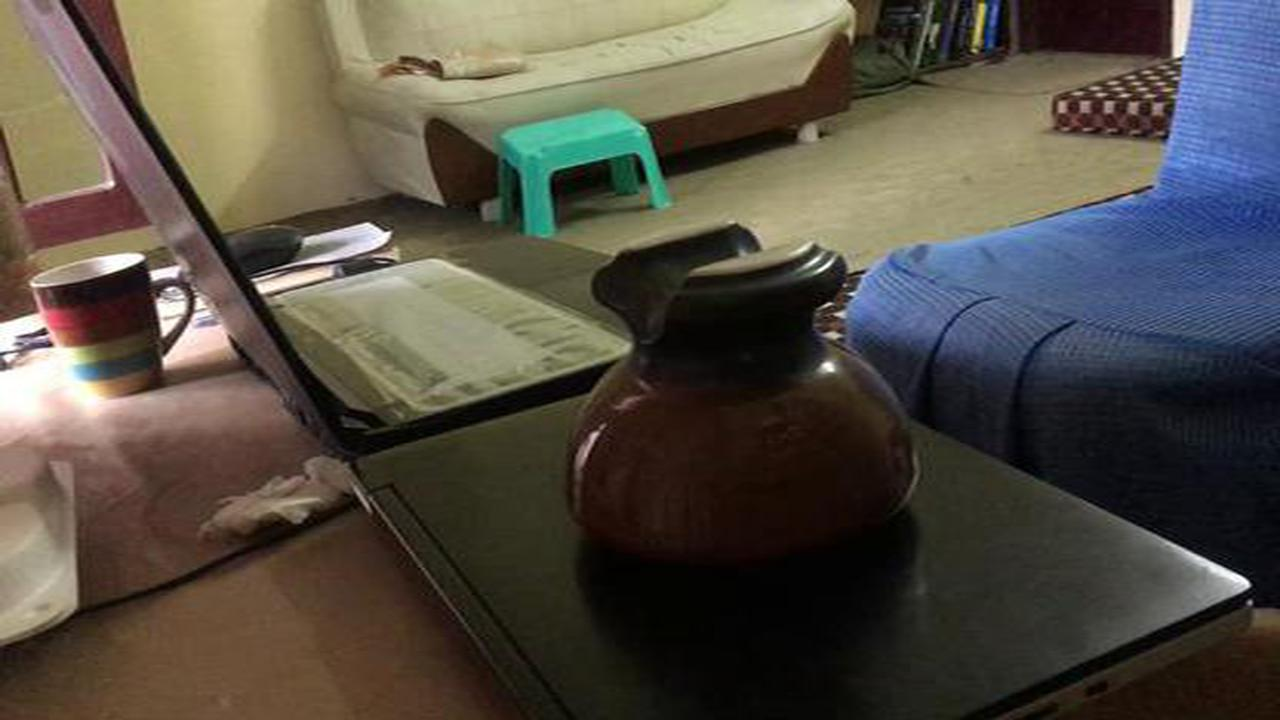insulator_pin: (542, 210, 945, 586)
